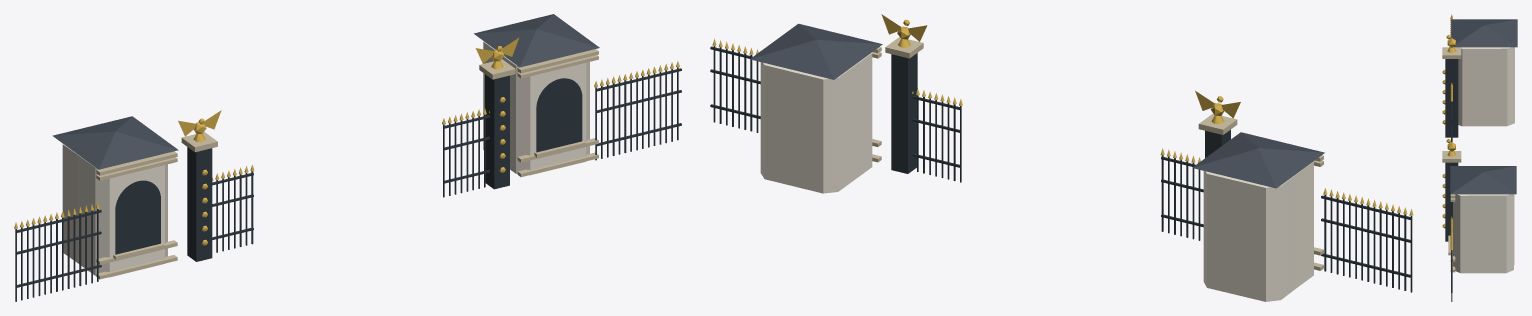
Rendered from artis-entrance.glb.
3 views of the same model, side by side, from view 1: azimuth 30°, elevation 25°; view 2: azimuth 150°, elevation 25°; view 3: azimuth 270°, elevation 25° (orthographic). The views are drawn at different scales.
Parts seen in each view (by area): view 1: artis-entrance; view 2: artis-entrance; view 3: artis-entrance.
Part boxes in pixels (x1,y1,x2,y2): artis-entrance: [14, 14, 681, 301]; artis-entrance: [710, 14, 1413, 301]; artis-entrance: [1442, 14, 1517, 301].
Bounding box in the file's own units: 27.39 × 5.55 × 3.75.
